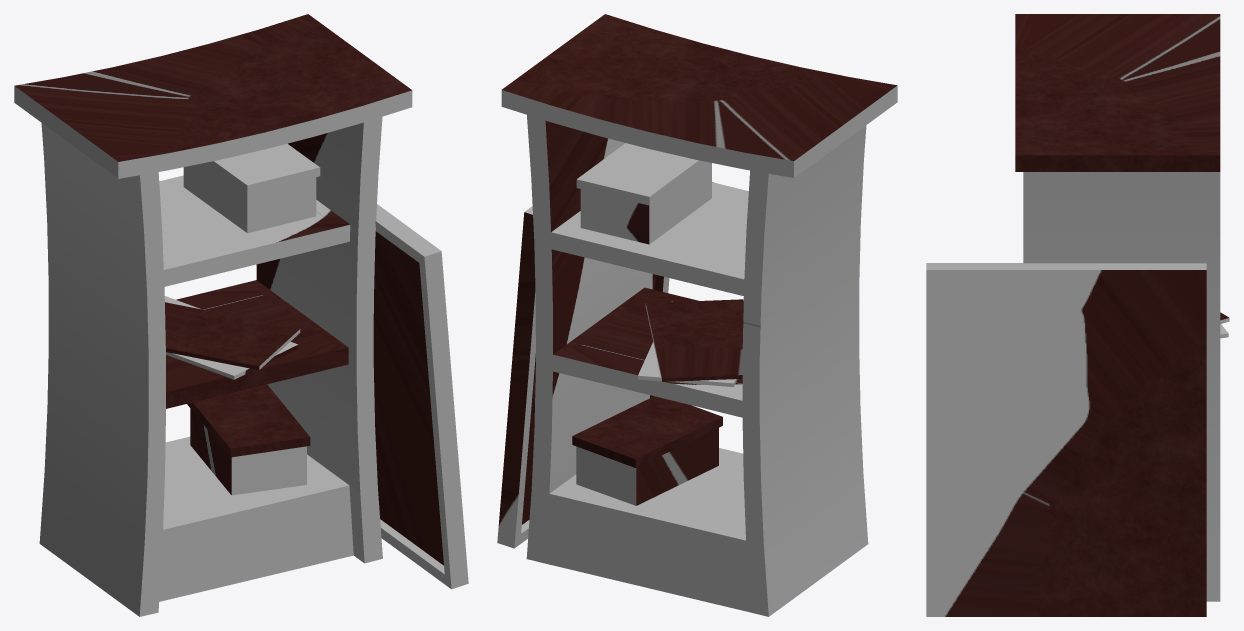
File: ASM - PBR Metallic Roughness.gltf
The picture shows the model from 3 angles, left to right: view 1: azimuth 30°, elevation 25°; view 2: azimuth 150°, elevation 25°; view 3: azimuth 270°, elevation 25°; orthographic projection.
Visible parts, largest first — view 1: Object002; view 2: Object002; view 3: Object002.
Boxes of the visible parts, box(x1,y1,x2,y2) form: Object002: box(14, 14, 468, 616); Object002: box(497, 14, 897, 616); Object002: box(926, 14, 1229, 616).
Size of the model in its own units: 1.27 by 1.85 by 1.11.
